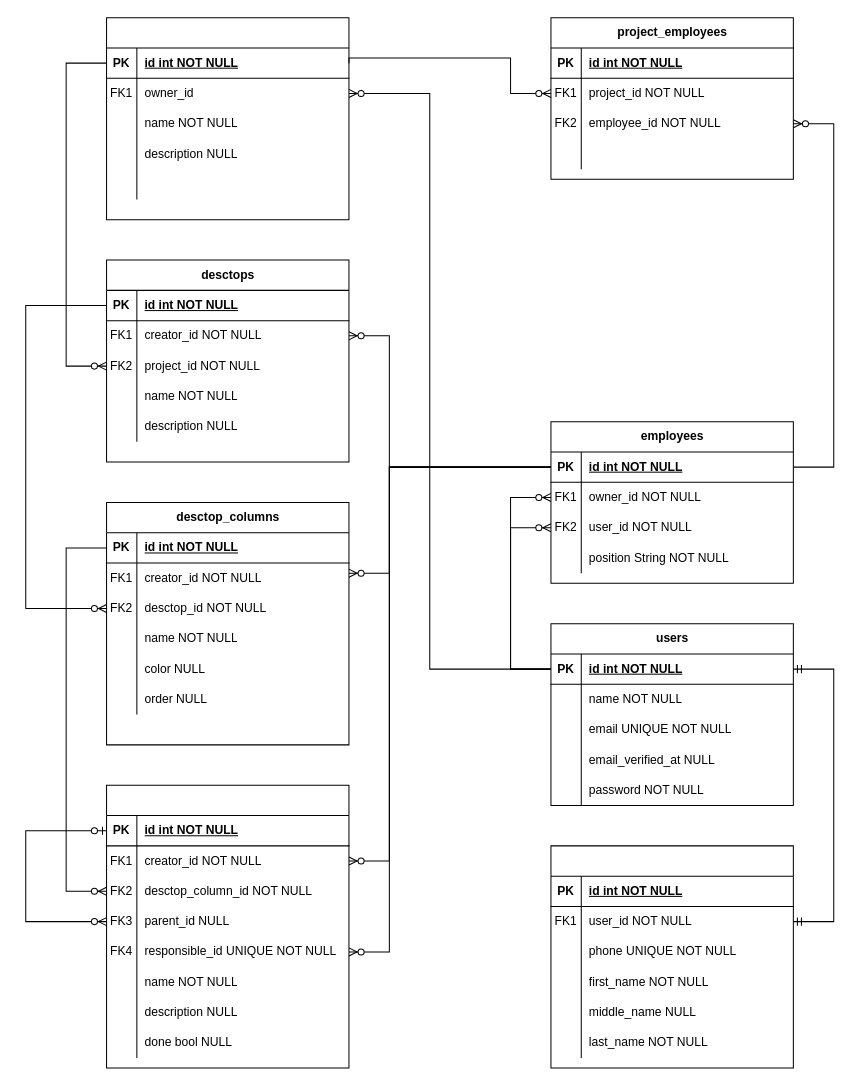
Some shapes in this 861 by 1086 pixel diagram are drawn without their labels. Each missing label, with the box of its shape:
profiles: (550, 845, 793, 1068)
projects: (106, 17, 349, 220)
tasks: (106, 784, 349, 1068)
